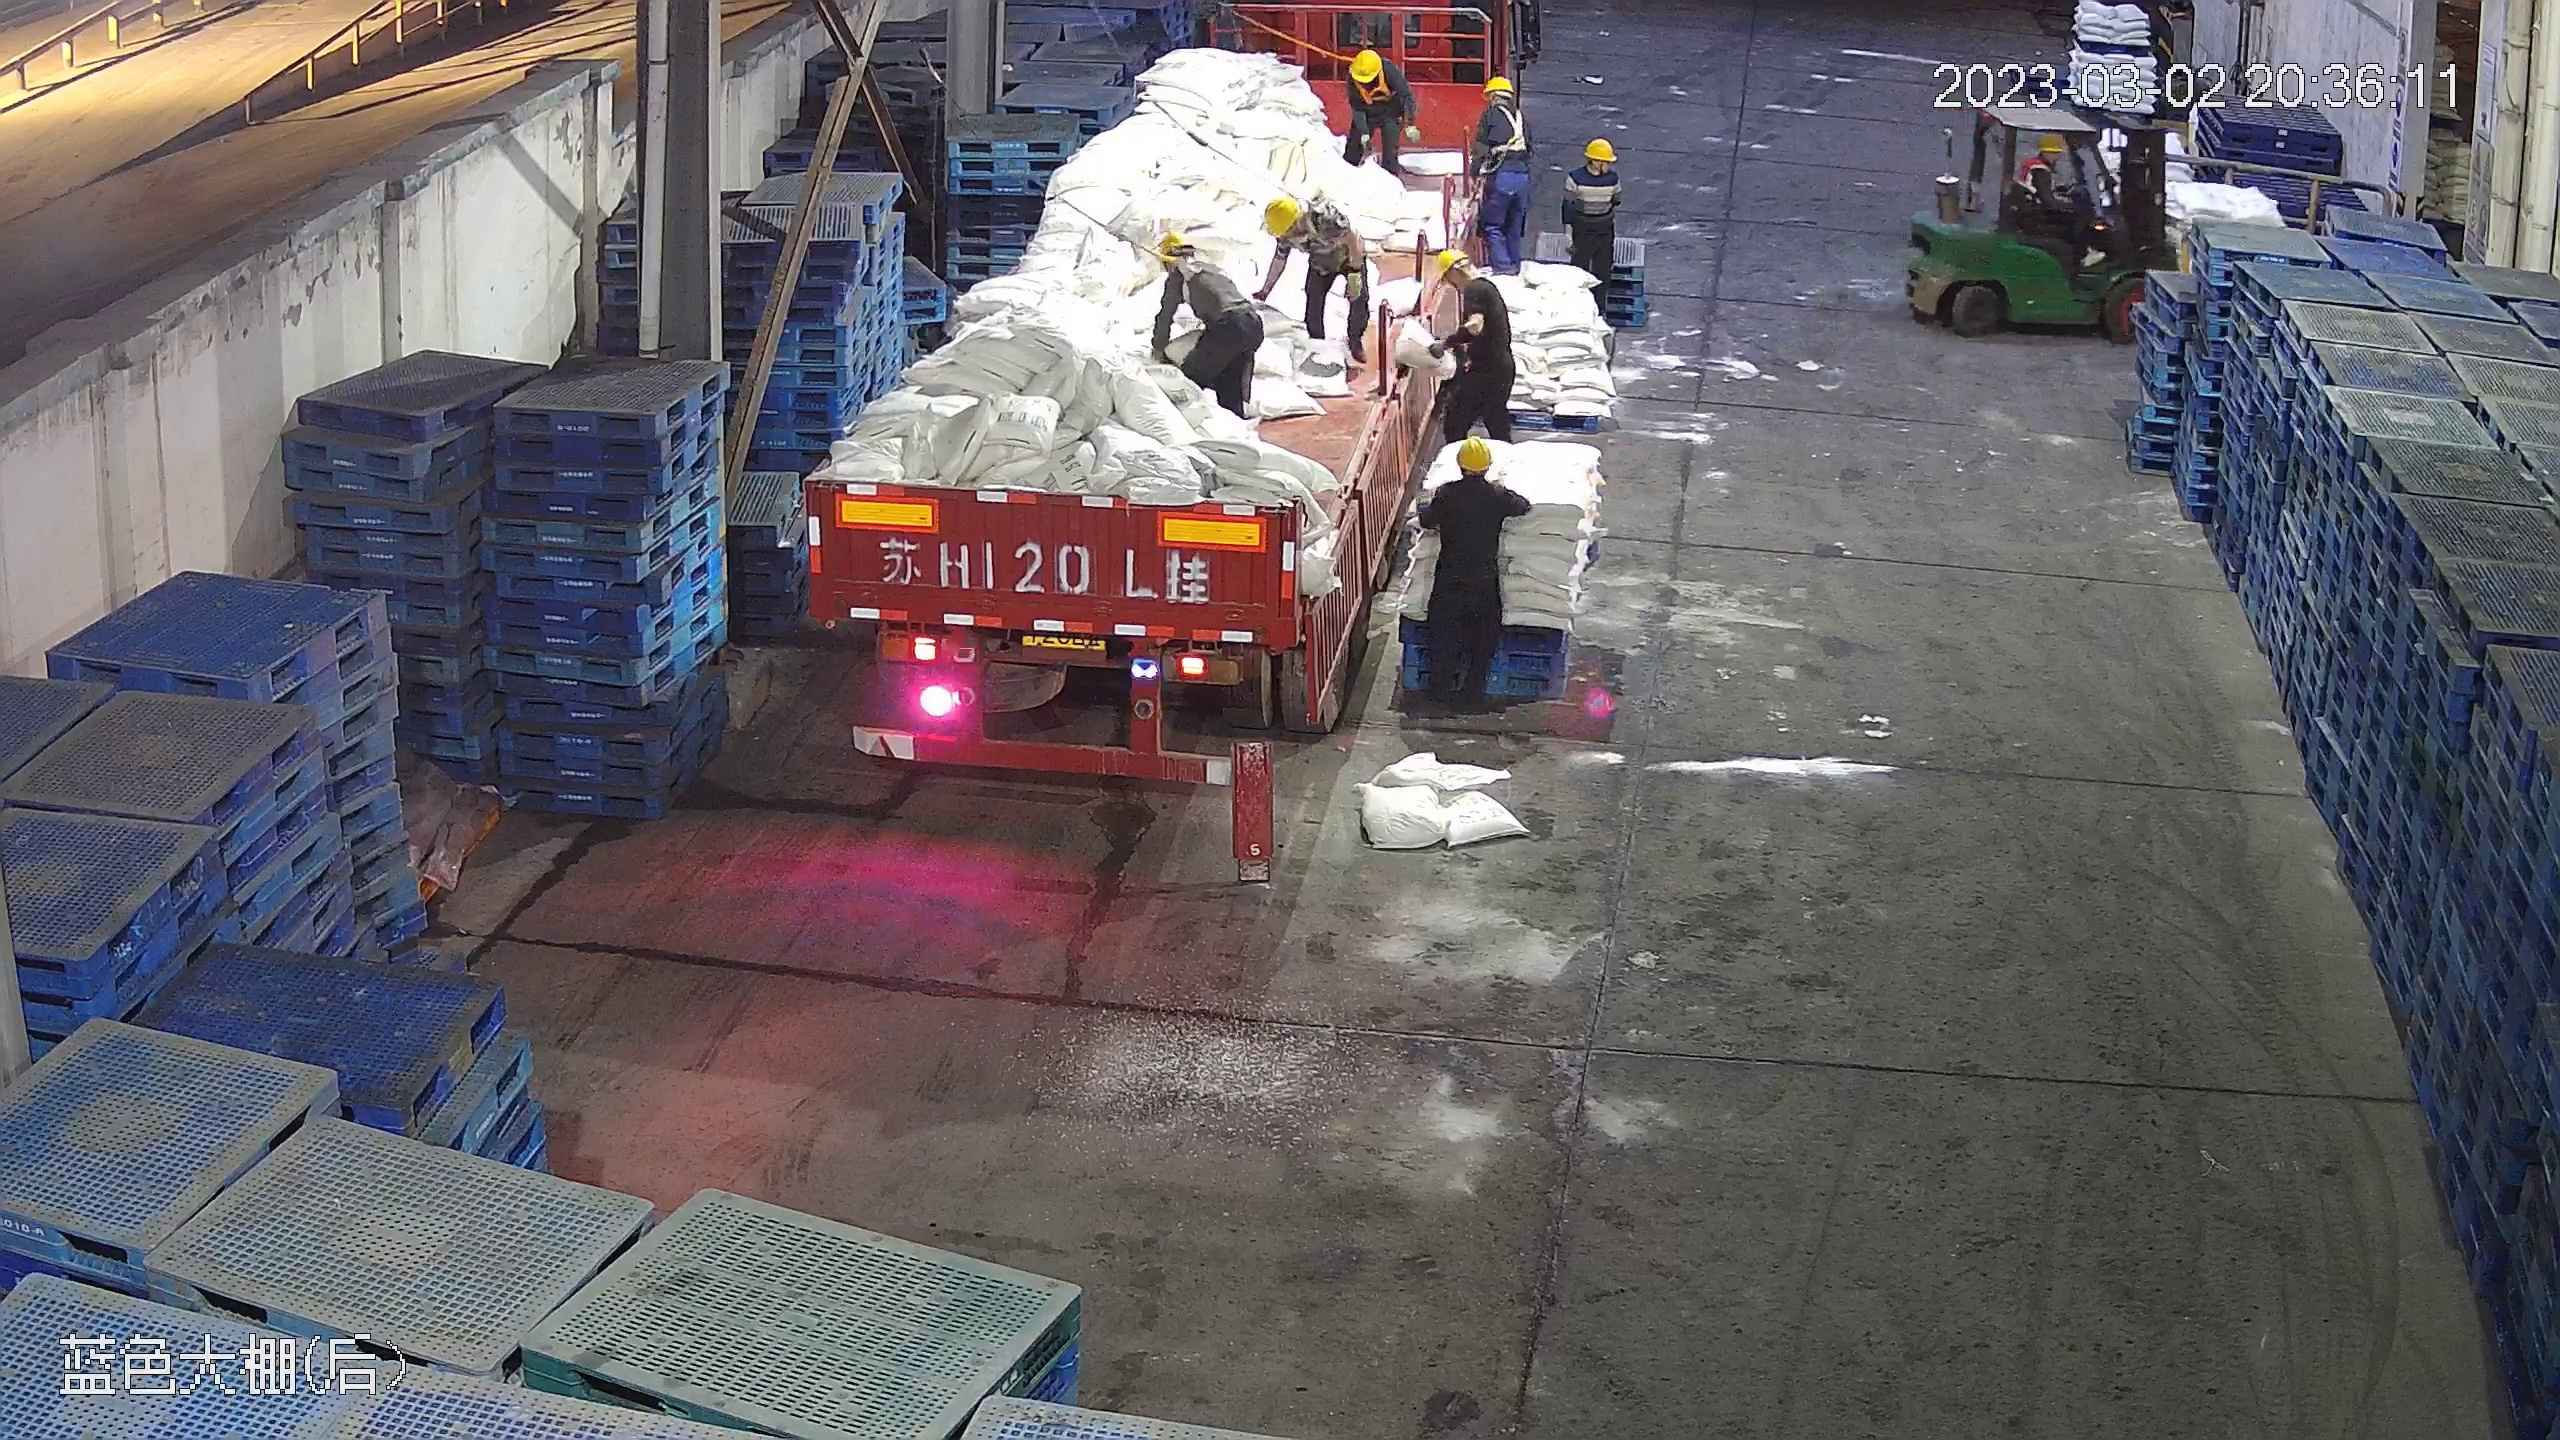belt: (1176, 257, 1244, 314), (1302, 203, 1360, 262), (1478, 98, 1526, 150), (1354, 72, 1392, 107)
head: (1431, 435, 1515, 517), (1151, 228, 1229, 305), (1430, 246, 1507, 316), (1266, 195, 1346, 256), (1341, 45, 1403, 110), (1472, 73, 1526, 136), (1567, 137, 1621, 192), (2024, 130, 2072, 183)
helmet: (1262, 195, 1304, 237), (1452, 433, 1497, 473), (1154, 228, 1193, 266), (1430, 248, 1465, 279), (1347, 54, 1384, 83), (1583, 138, 1613, 163), (1483, 73, 1516, 96), (2035, 129, 2064, 152)
people: (1412, 425, 1533, 712), (1142, 223, 1270, 418), (1416, 246, 1517, 451), (1257, 190, 1373, 366), (1455, 68, 1533, 270), (1339, 44, 1421, 184), (1558, 133, 1625, 287), (2021, 128, 2102, 249)
truck: (795, 10, 1513, 779)
